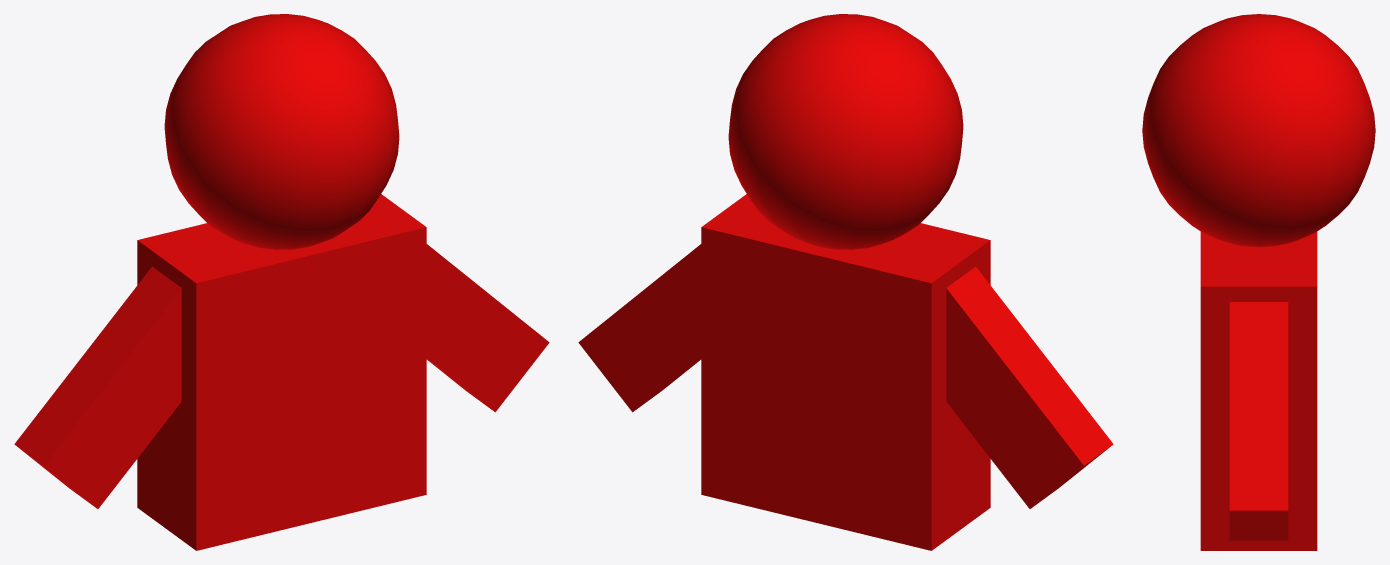
Rendered from Enemy.fbx.
3 views of the same model, side by side, from view 1: azimuth 30°, elevation 25°; view 2: azimuth 150°, elevation 25°; view 3: azimuth 270°, elevation 25° (orthographic).
Visible parts, largest first — view 1: pCube4; view 2: pCube4; view 3: pCube4.
Part boxes in pixels (x1,y1,x2,y2): pCube4: (14, 14, 549, 550); pCube4: (578, 14, 1113, 550); pCube4: (1142, 14, 1375, 550).
Size of the model in its own units: 4.94 by 4.45 by 2.
